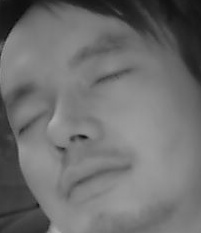blink: (91, 63, 132, 90), (18, 109, 53, 135)
mouth: (58, 155, 137, 203)
